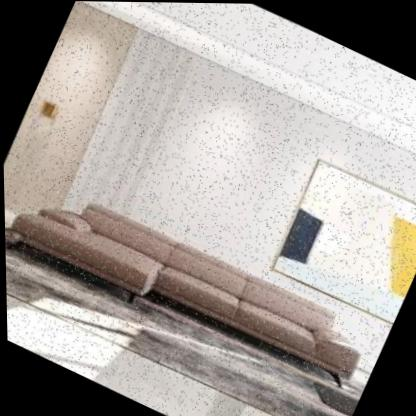Sofa: (3, 145, 388, 416)
